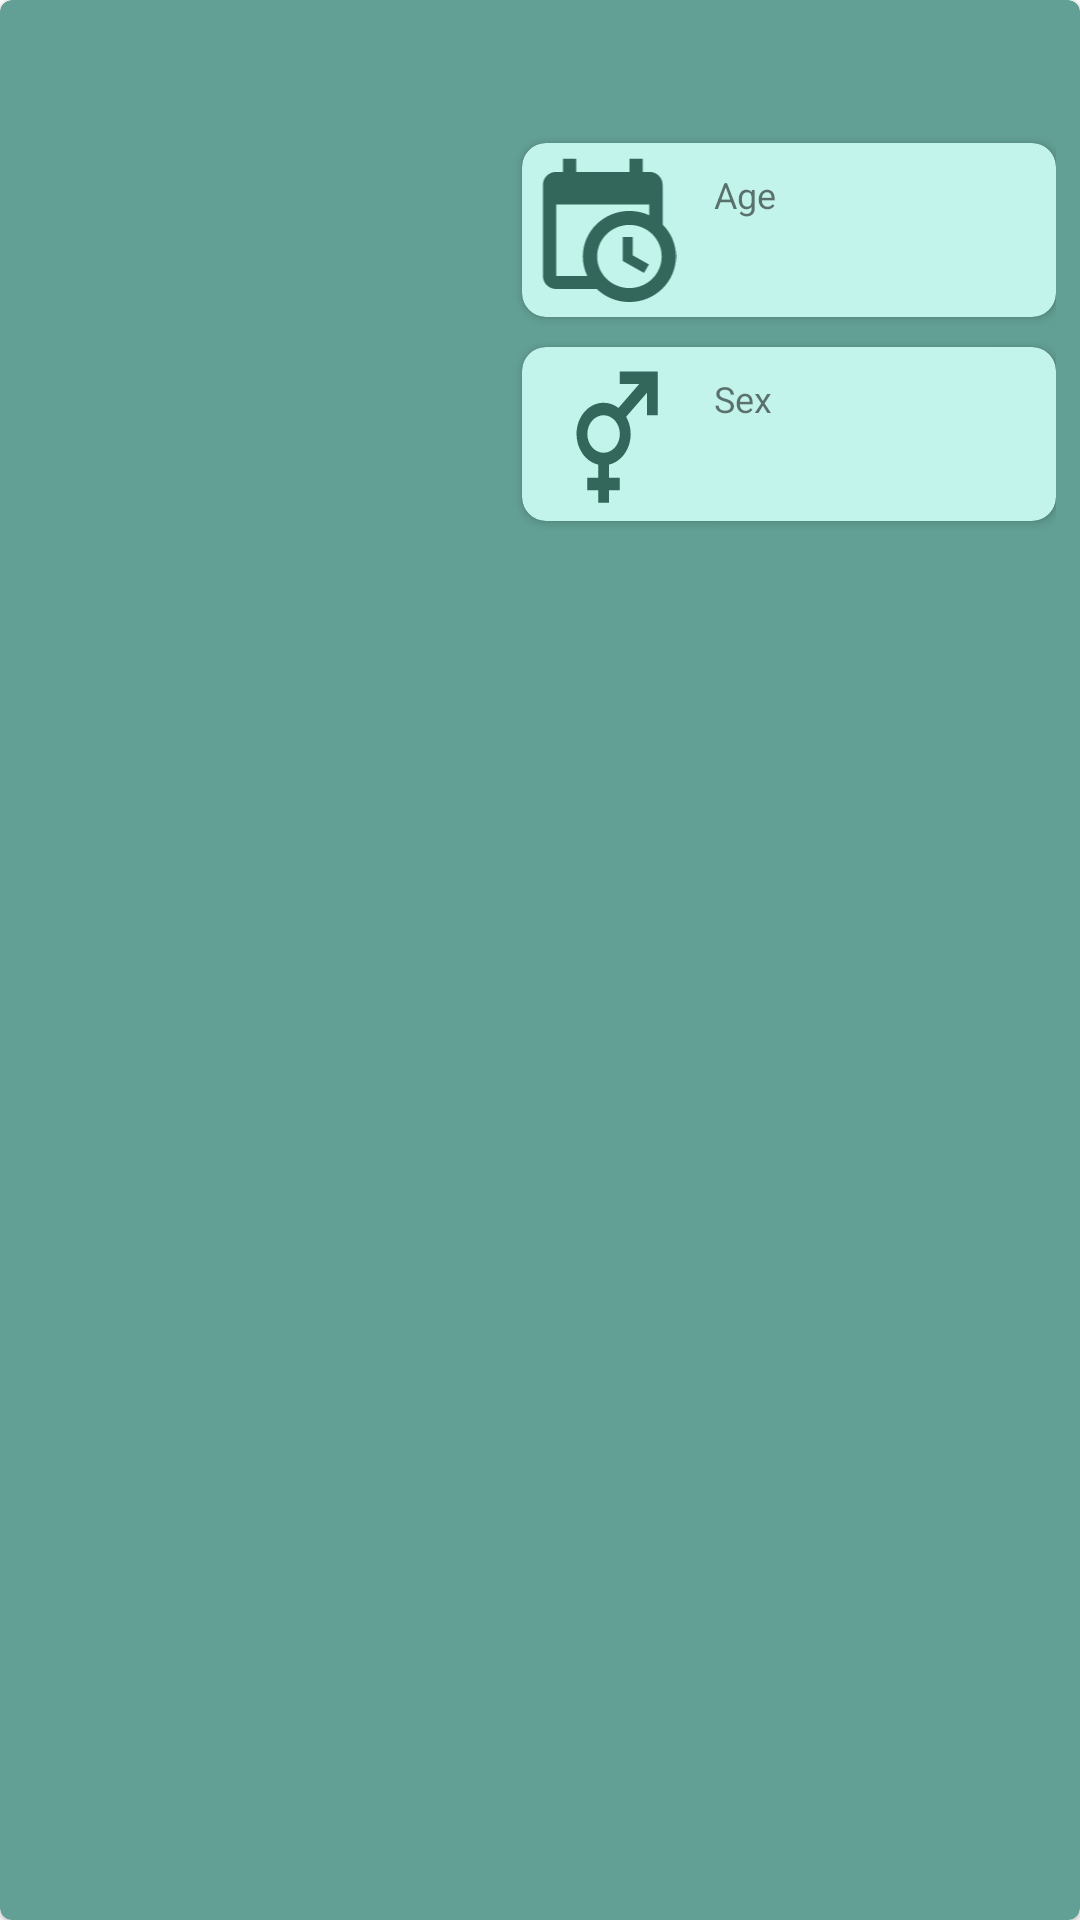

Icons on this 1080px x 1920px Android screen, each with the point to tap as (x,y):
gender: (617,437)
